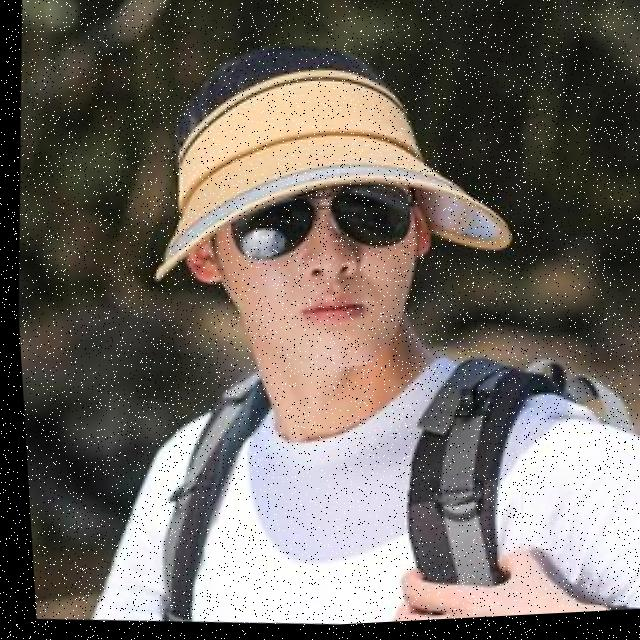illegal_helmet: (122, 19, 540, 407)
